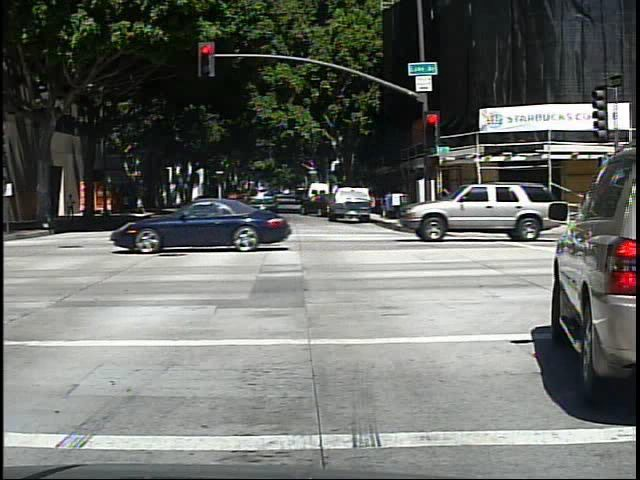person: (65, 190, 79, 222)
